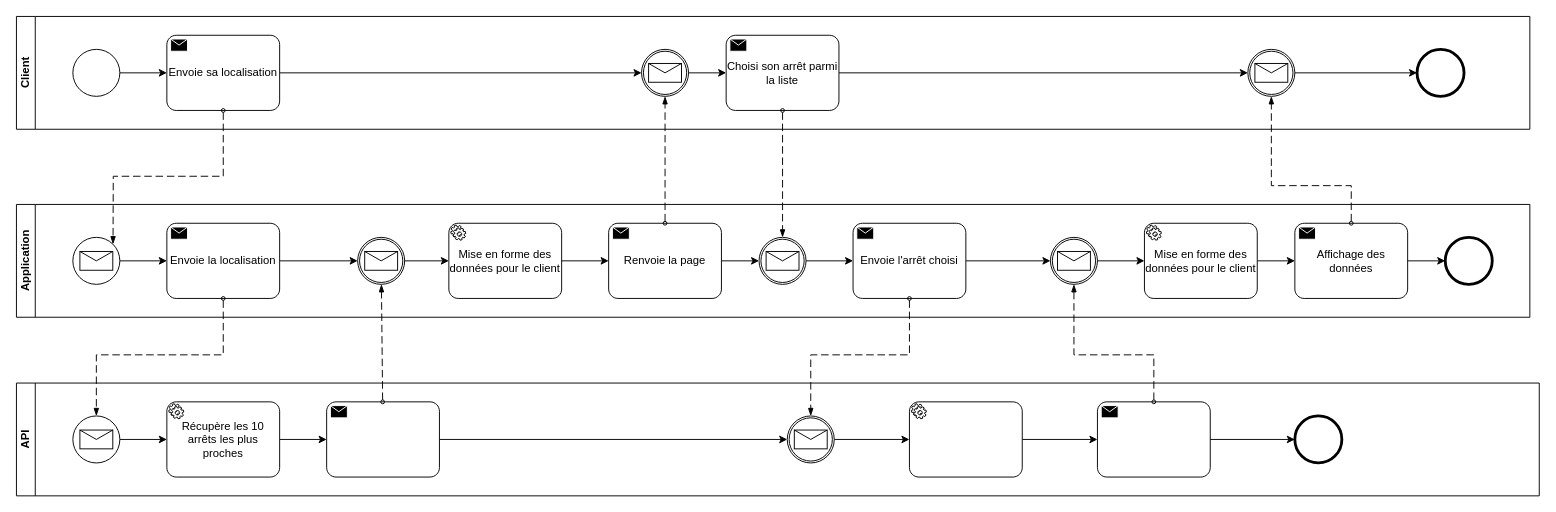
Image size: 1556x512. Some labels were removed from this diagram. Here are the shapes that lost their labels. From the top down, the centre of each, then its label:
pixel 382 439: Envoie les arrêts
pixel 965 439: Récupère les information sur l'arrêt
pixel 1153 439: Envoie les informations
